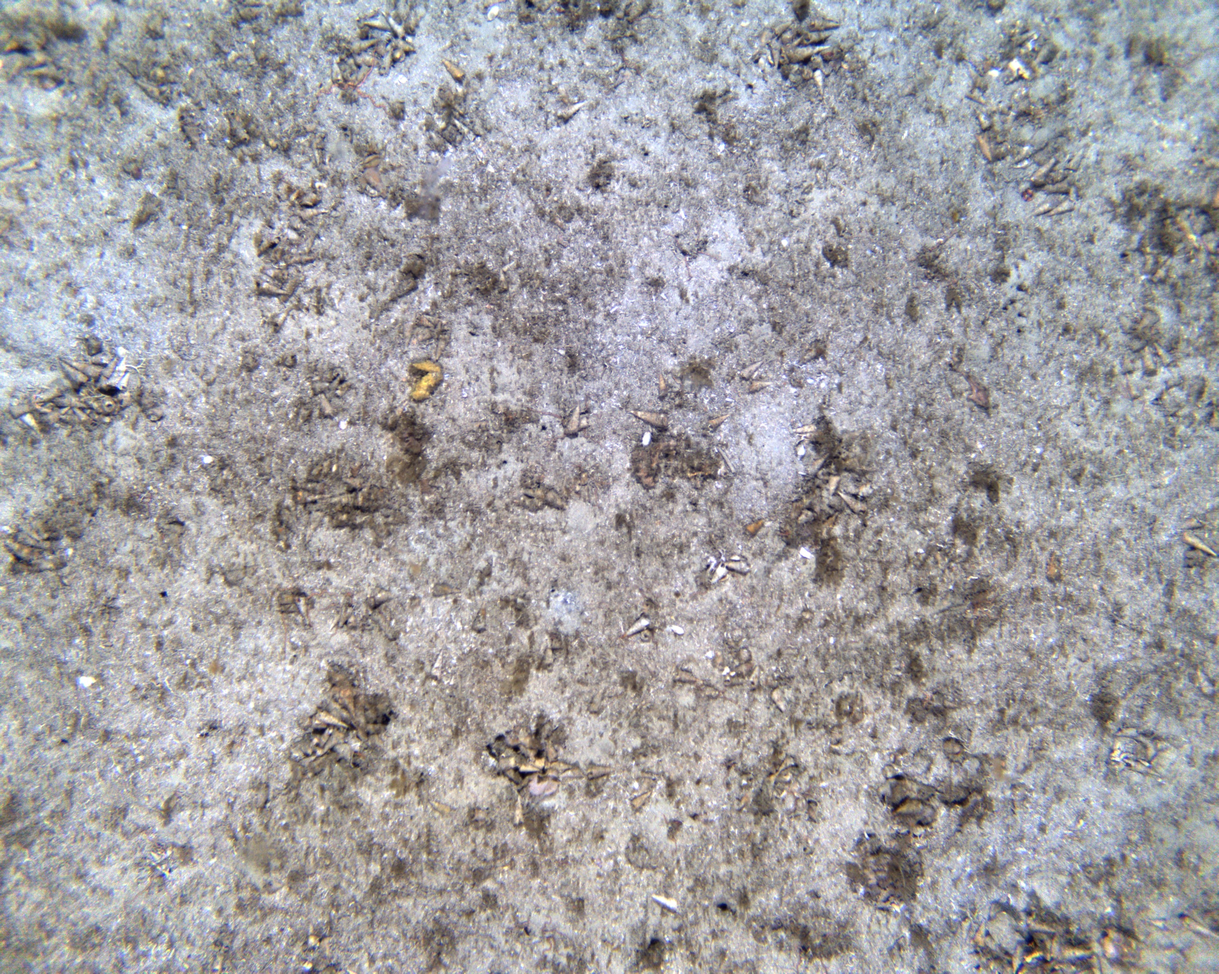Brachionichthyidae: (947, 365, 993, 410)
